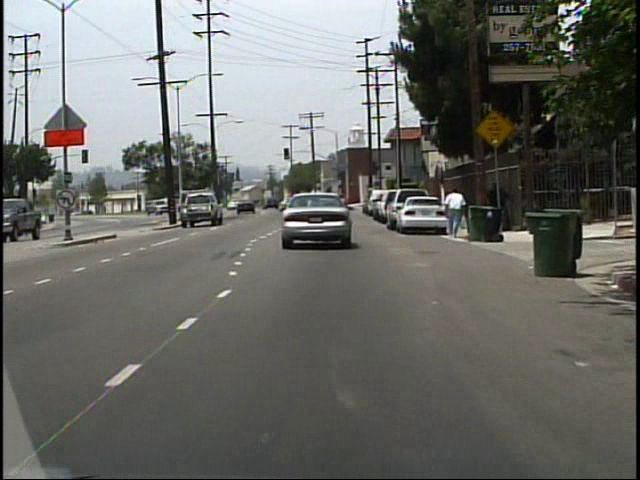person: (442, 186, 466, 240)
